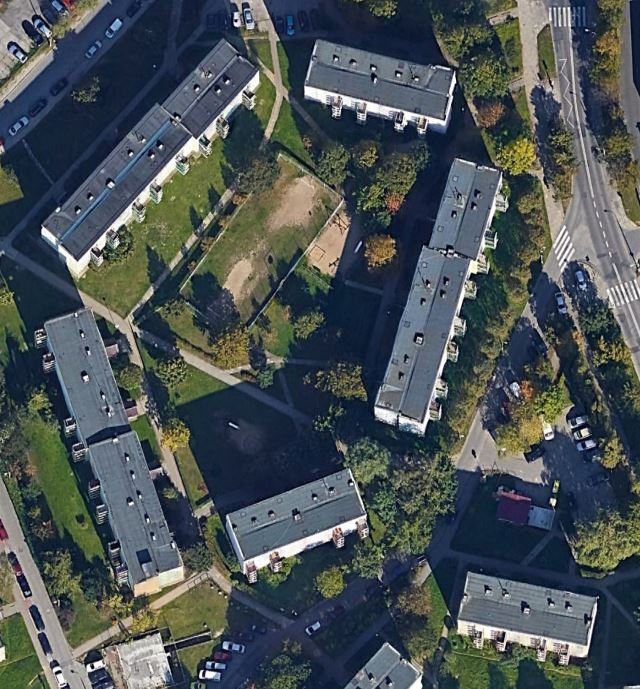block of flats: (38, 39, 262, 283), (31, 304, 192, 598), (369, 155, 512, 439), (217, 465, 371, 588), (299, 34, 463, 141), (446, 567, 600, 667)
